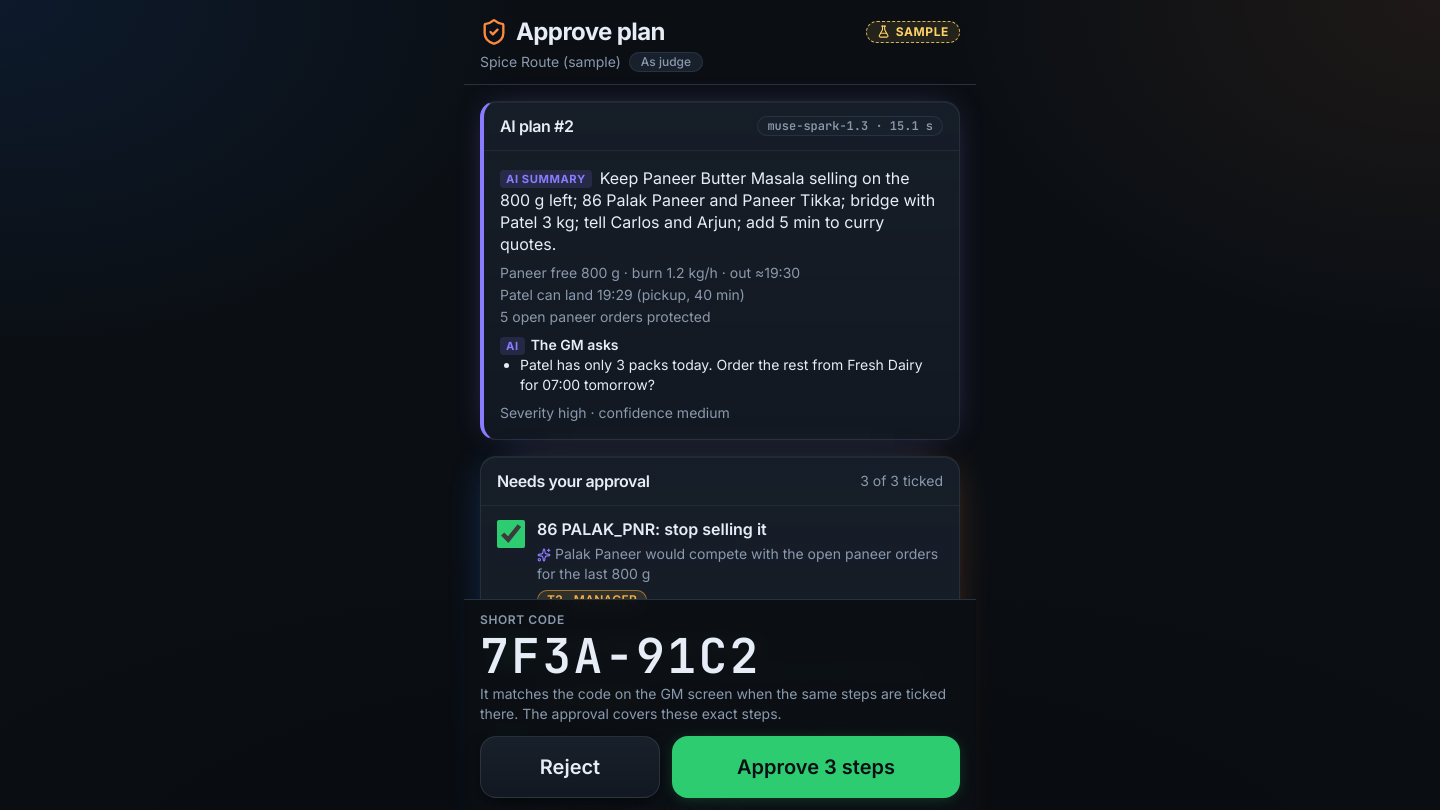
state_changed_hint
This screenshot has width=1440, height=810.
Click the button "Approve 3 steps".
click(816, 767)  # box top-left (672, 736), bottom-right (960, 798)
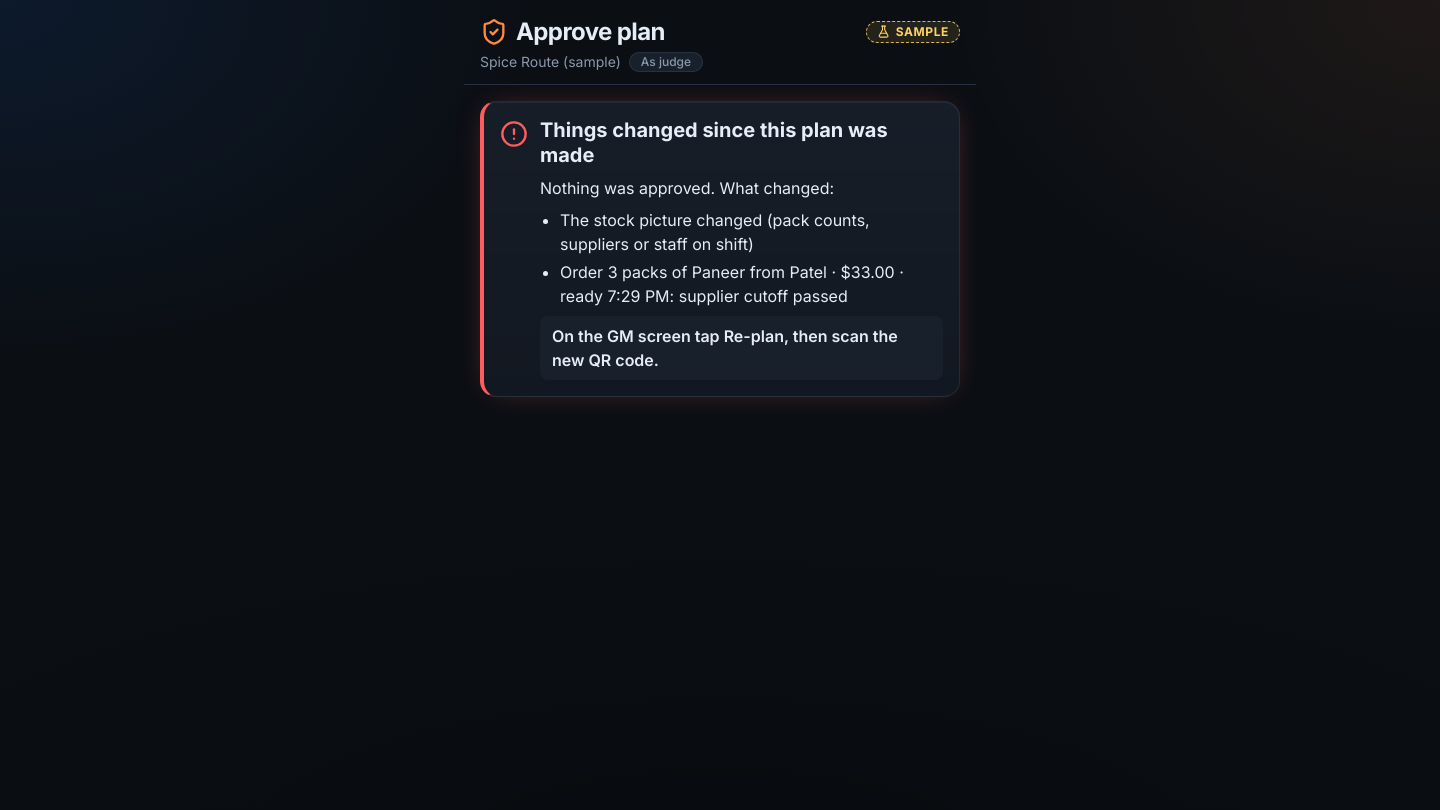
Expected: the message "Things changed since this plan was made" shows "Nothing was approved. What changed:", top-left (540, 178), bottom-right (834, 198)
Expected: the list items read "The stock picture changed (pack counts, suppliers or staff on shift)", "Order 3 packs of Paneer from Patel · $33.00 · ready 7:29 PM: supplier cutoff passed", in this order, top-left (560, 210), bottom-right (870, 254); top-left (560, 260), bottom-right (943, 308)
Expected: the message "Things changed since this plan was made" shows "On the GM screen tap Re-plan, then scan the new QR code.", top-left (552, 326), bottom-right (898, 370)
